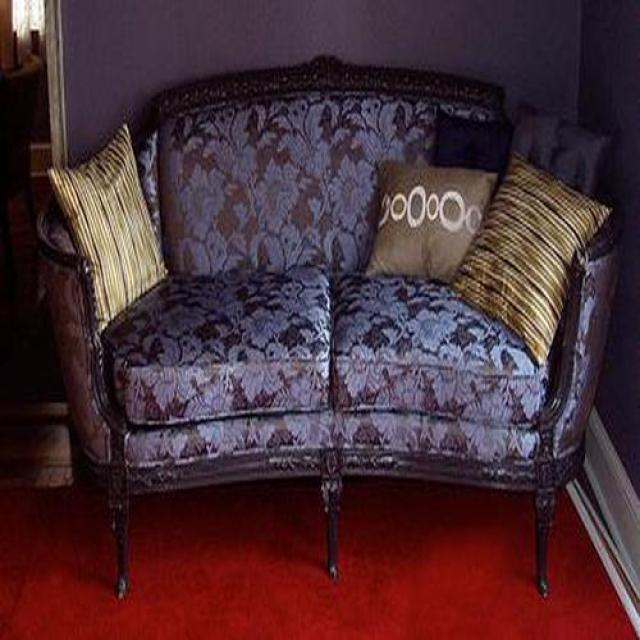sofa: (37, 56, 622, 600)
